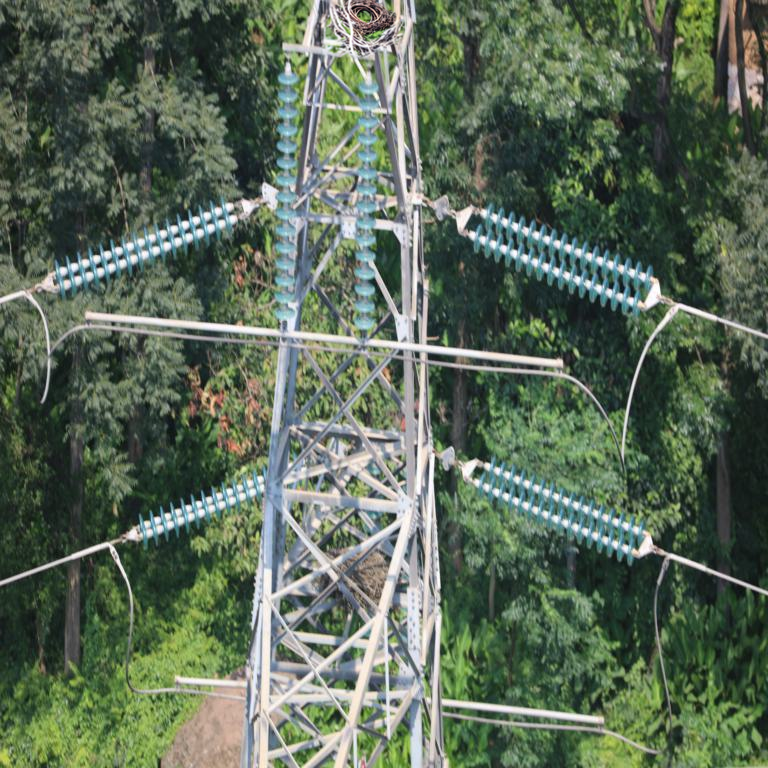nest: (322, 548, 398, 605), (330, 3, 398, 48)
